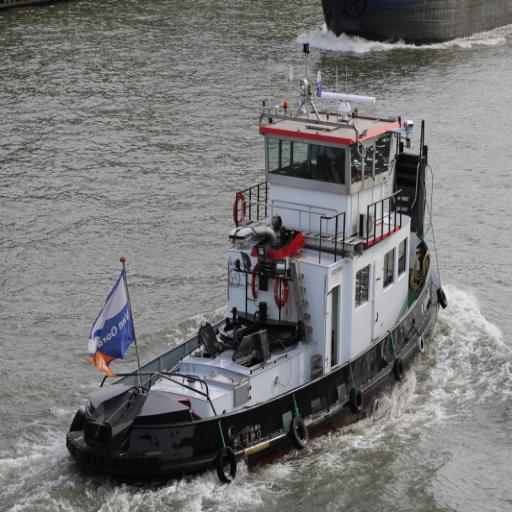tugboat: (63, 84, 453, 497)
